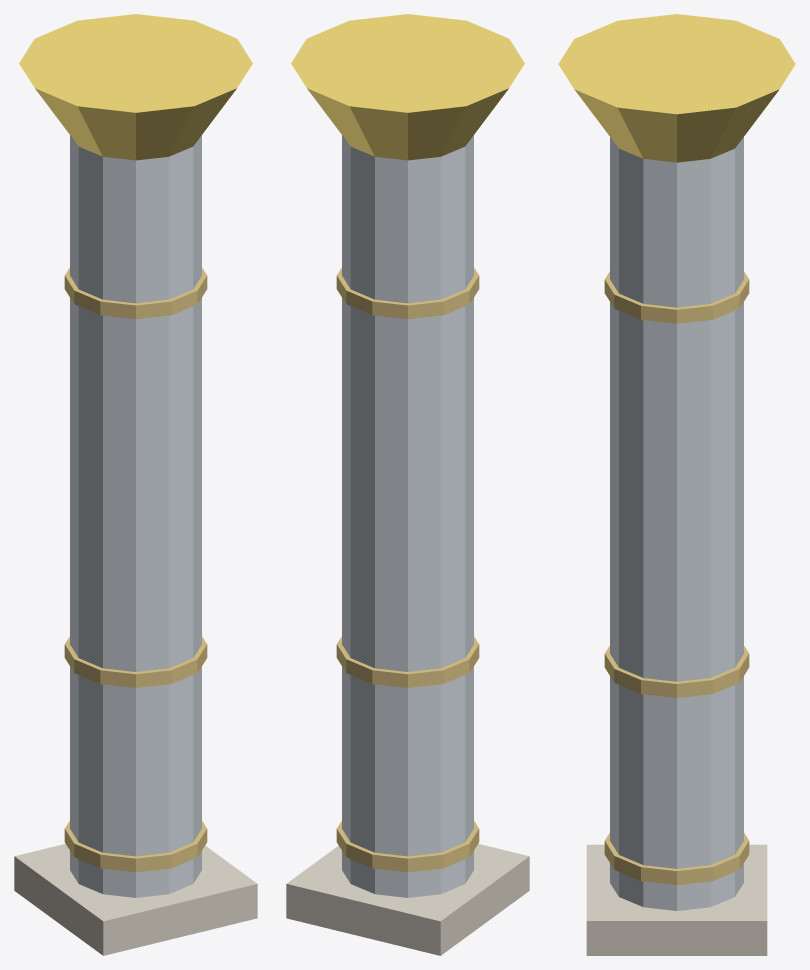
Rendered from HJ_Columna.fbx.
3 renders of one model, left to right at view 1: azimuth 30°, elevation 25°; view 2: azimuth 150°, elevation 25°; view 3: azimuth 270°, elevation 25°, orthographic.
Visible parts, largest first — view 1: HJ_Columna; view 2: HJ_Columna; view 3: HJ_Columna.
Boxes of the visible parts, x1=… form: HJ_Columna: x1=14, y1=14, x2=257, y2=955; HJ_Columna: x1=286, y1=14, x2=529, y2=955; HJ_Columna: x1=558, y1=14, x2=795, y2=955.
Bounding box in the file's own units: 0.92 × 3.65 × 0.92.
